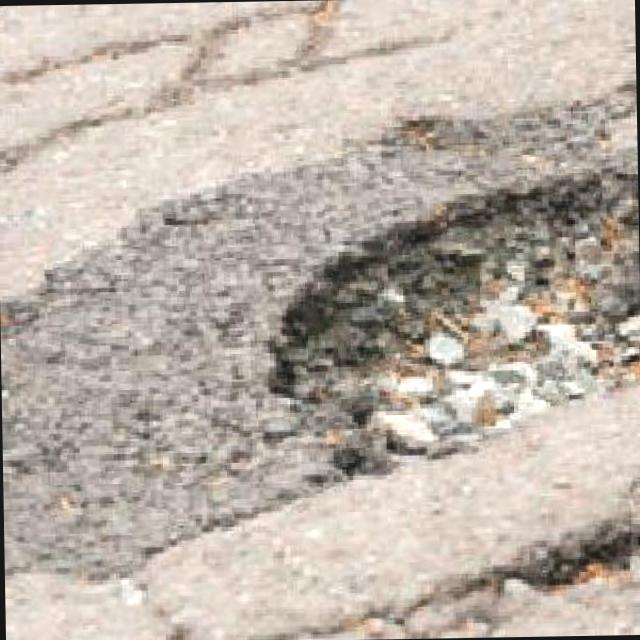pothole: (257, 164, 640, 481), (504, 517, 640, 596)
